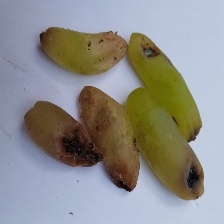grapes: (50, 41, 202, 186)
